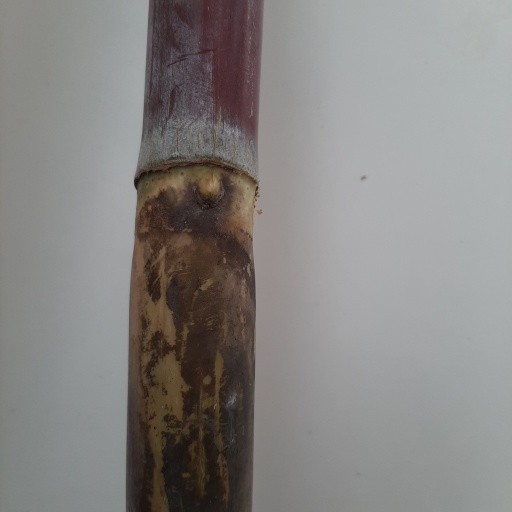Bud: (196, 171, 223, 204)
